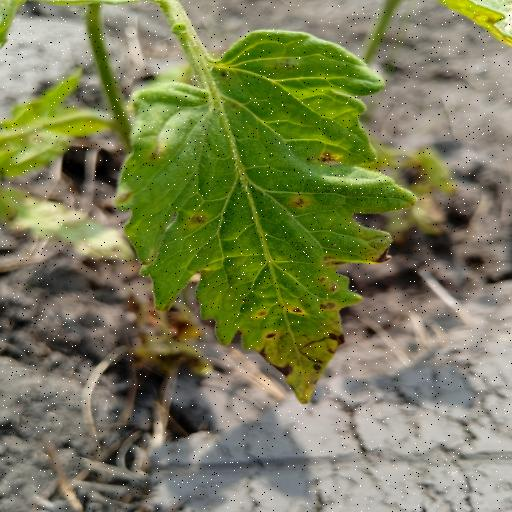Tomato_Brown_Spots: (109, 27, 421, 408)
